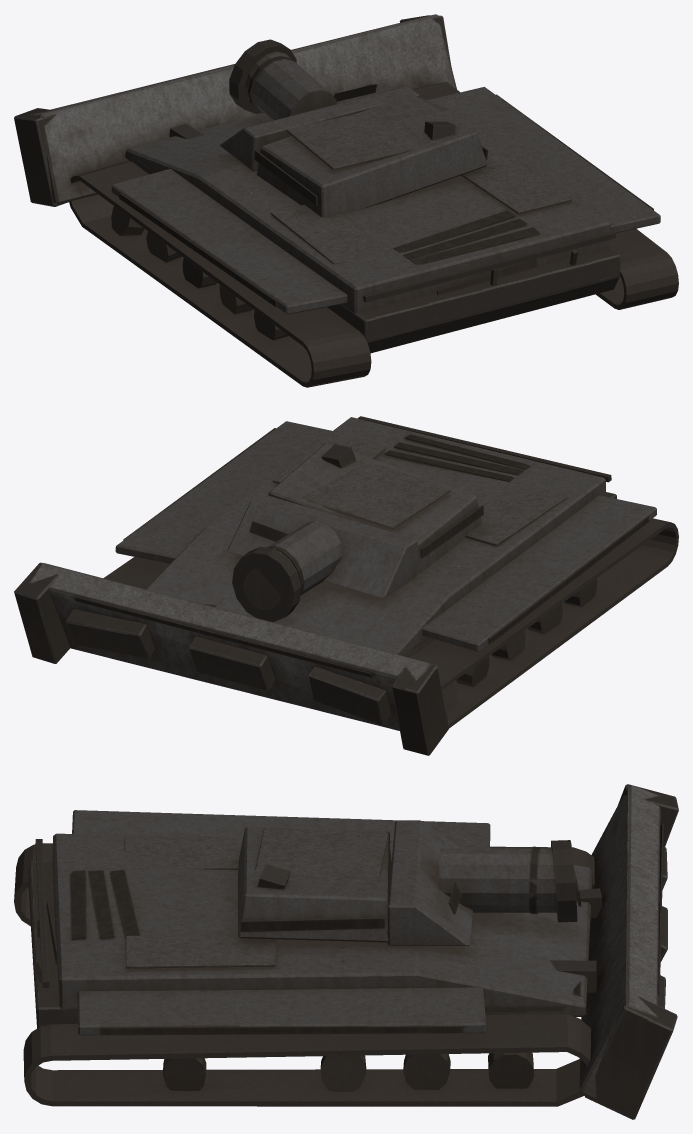
File: chs_minotaur_wreck.fbx
The picture shows the model from 3 angles, top to bottom: view 1: azimuth 30°, elevation 25°; view 2: azimuth 150°, elevation 25°; view 3: azimuth 270°, elevation 25°; orthographic projection. The views are drawn at different scales.
Parts seen in each view (by area): view 1: base_bar, ram_bar, turret_bar, trackL_bar, barrel_bar, trackR_bar; view 2: base_bar, ram_bar, turret_bar, trackL_bar, barrel_bar, trackR_bar; view 3: base_bar, trackR_bar, turret_bar, ram_bar, barrel_bar, trackL_bar.
Boxes of the visible parts, x1,y1,x2,y2 form: base_bar: (111, 82, 660, 353); ram_bar: (14, 14, 456, 206); turret_bar: (220, 84, 488, 217); trackL_bar: (69, 161, 371, 387); barrel_bar: (229, 39, 336, 120); trackR_bar: (412, 82, 678, 309); base_bar: (115, 416, 656, 657); ram_bar: (14, 562, 450, 755); turret_bar: (227, 443, 483, 598); trackL_bar: (410, 518, 678, 728); barrel_bar: (232, 520, 343, 622); trackR_bar: (103, 557, 169, 589); base_bar: (28, 810, 592, 1035); trackR_bar: (23, 1013, 591, 1106); turret_bar: (238, 820, 472, 945); ram_bar: (549, 784, 678, 1119); barrel_bar: (438, 840, 581, 922); trackL_bar: (14, 843, 594, 926).
Size of the model in its own units: 1217 by 591 by 1454.
Materials: 2 (2 with a texture image).
